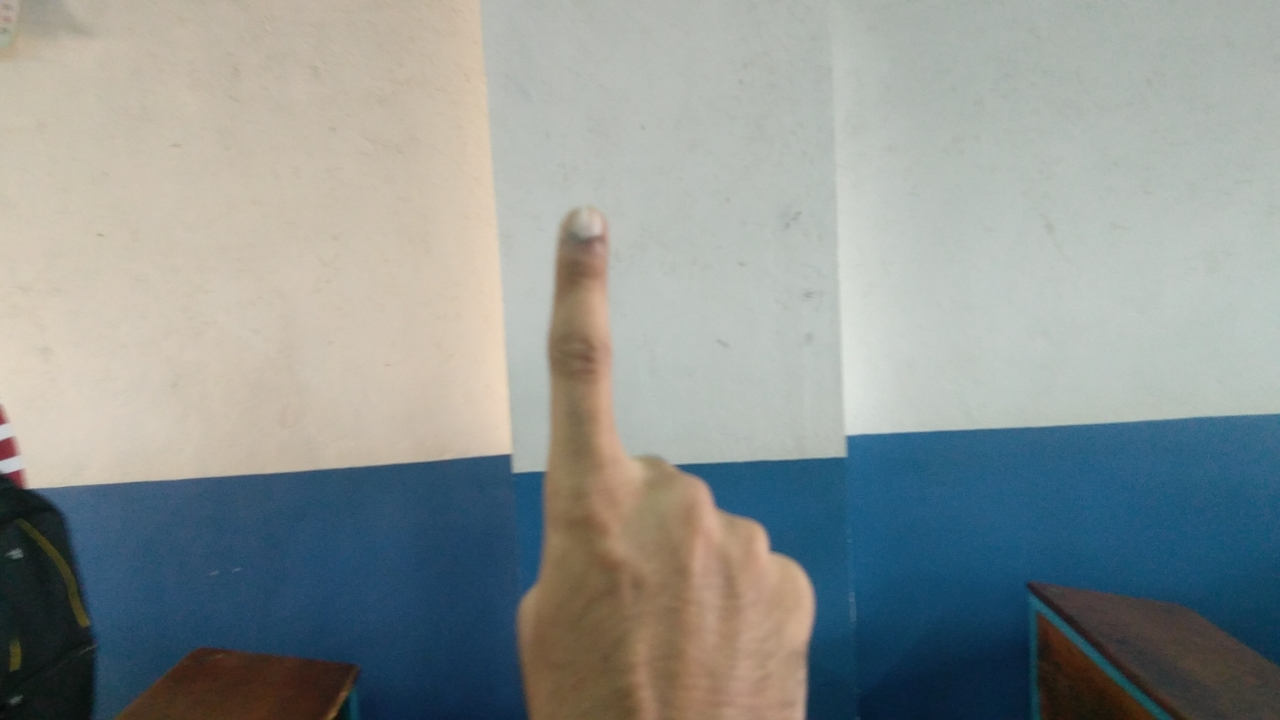fingertip: (550, 202, 616, 266)
